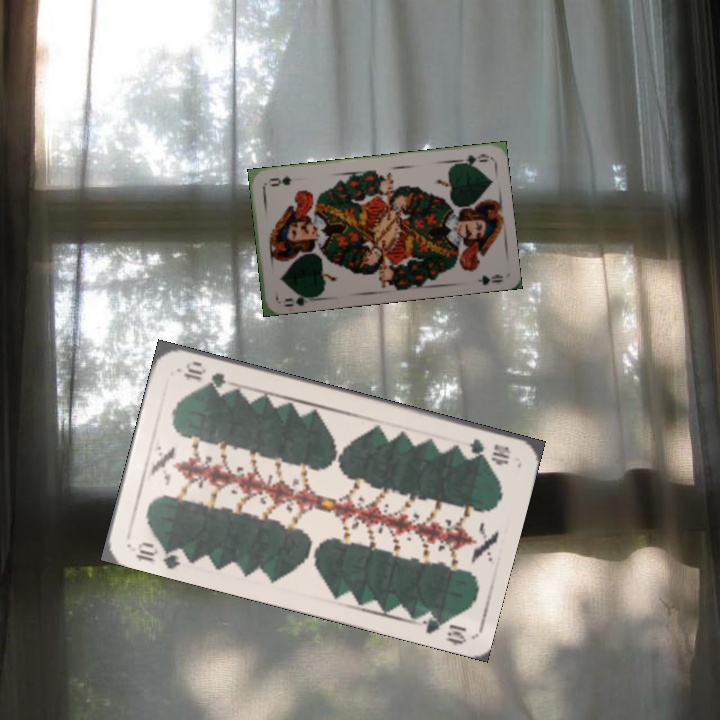G10: (131, 537, 189, 571), (465, 434, 513, 466)
GO: (279, 289, 317, 309), (451, 150, 491, 169)
